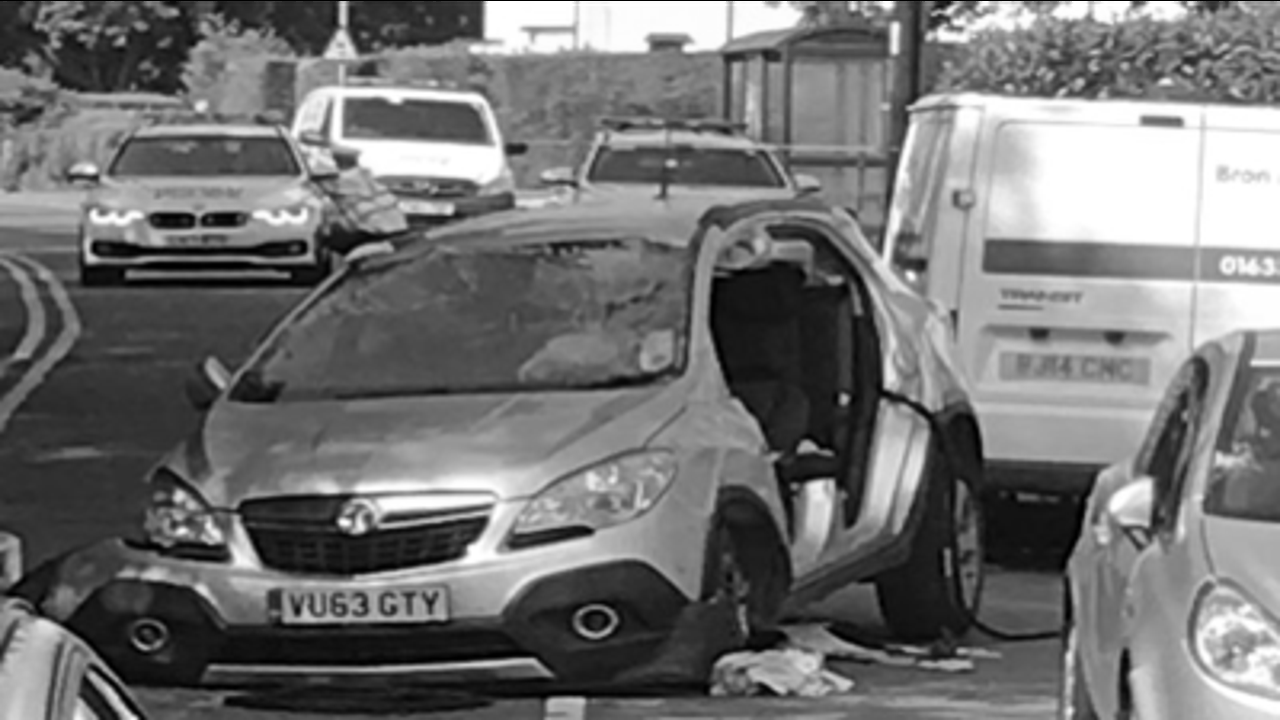license: (271, 583, 455, 628), (995, 345, 1159, 393), (392, 194, 456, 218)
